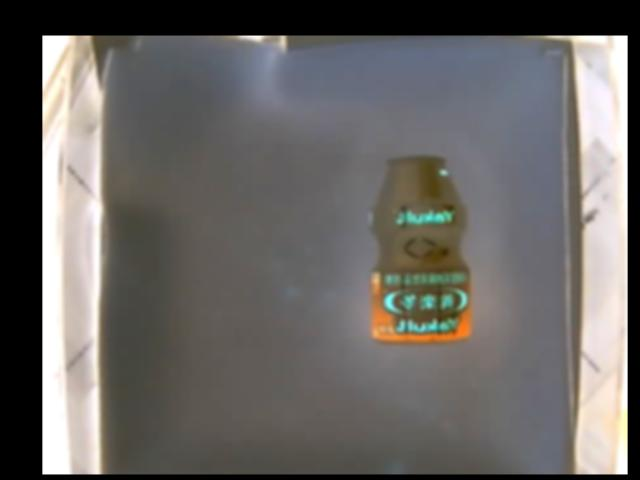Bottle: (372, 154, 469, 343)
